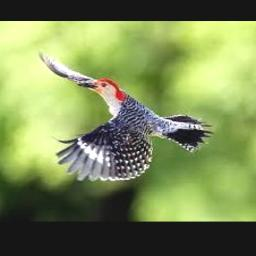Woodpecker: (39, 50, 212, 181)
